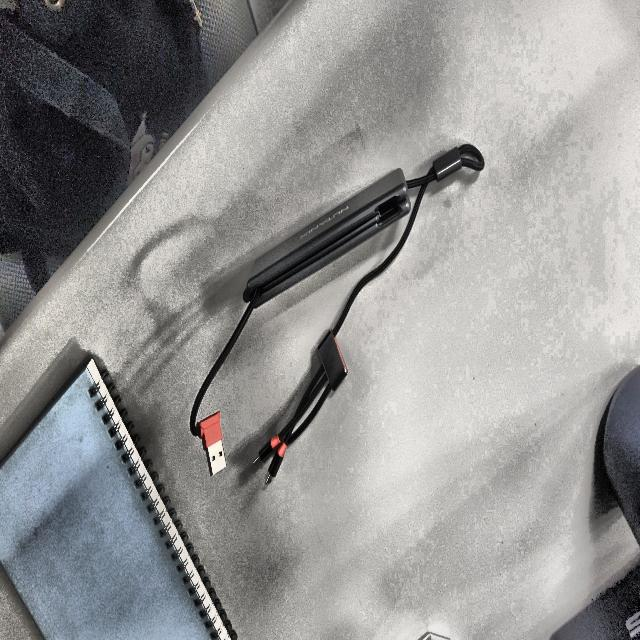HUB: (190, 144, 484, 483)
